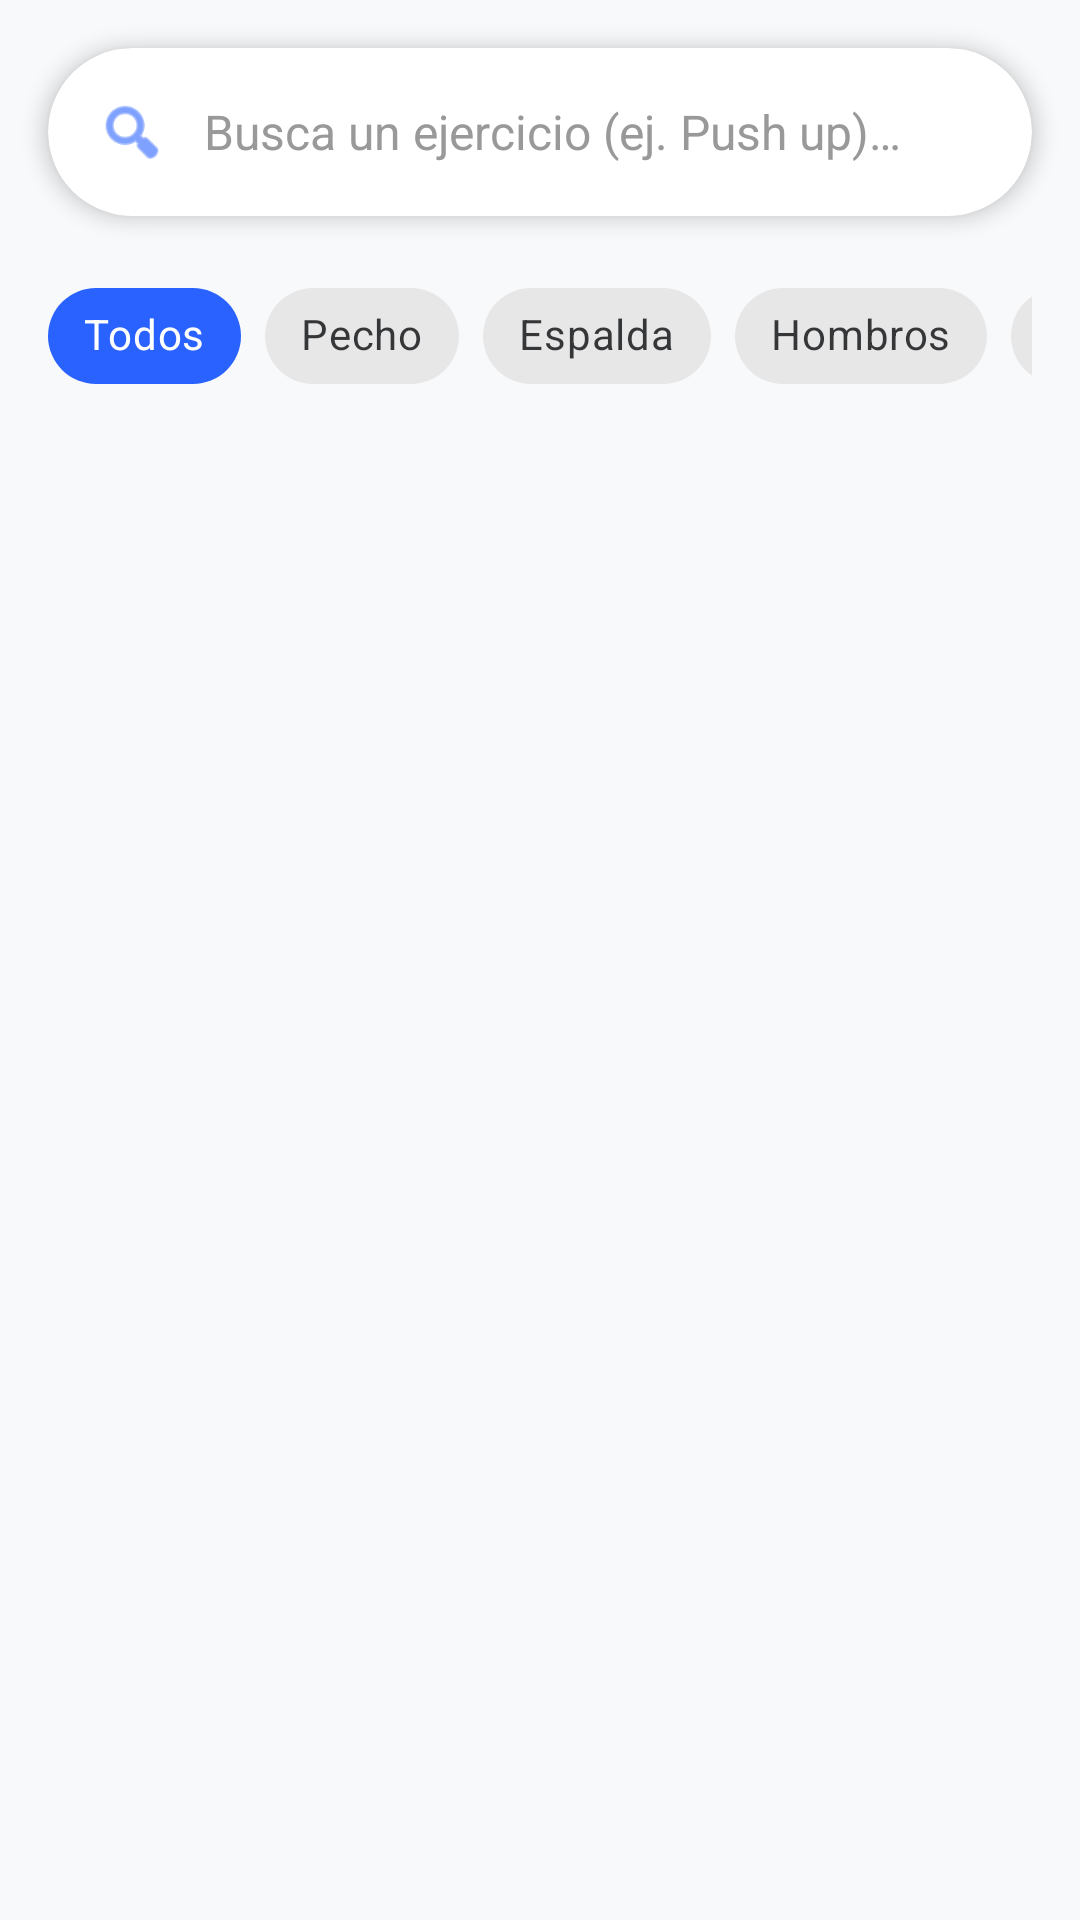

Icons on this 1080w x 1920h Android screen, each with its box as (x1, y1, x2, y2):
search: (105, 106, 159, 159)
